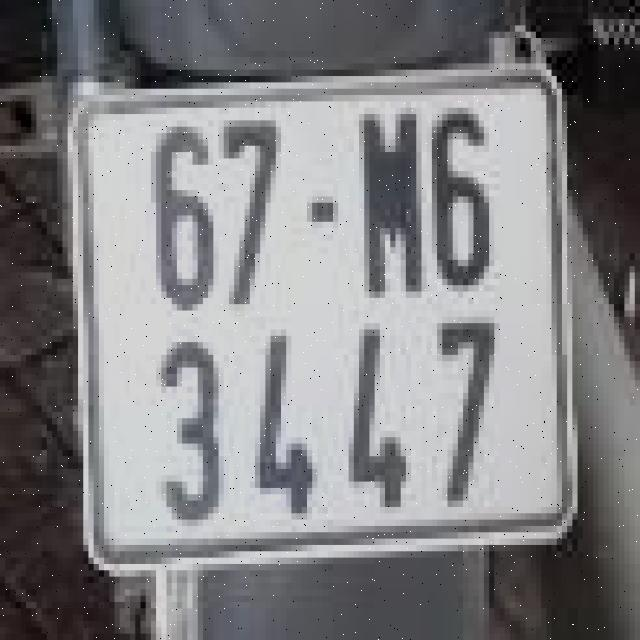3: (146, 326, 229, 523)
4: (250, 332, 322, 516), (346, 320, 408, 504)
6: (146, 124, 218, 308), (429, 108, 497, 285)
7: (221, 114, 284, 304), (434, 320, 497, 504)
M: (362, 104, 418, 294)
